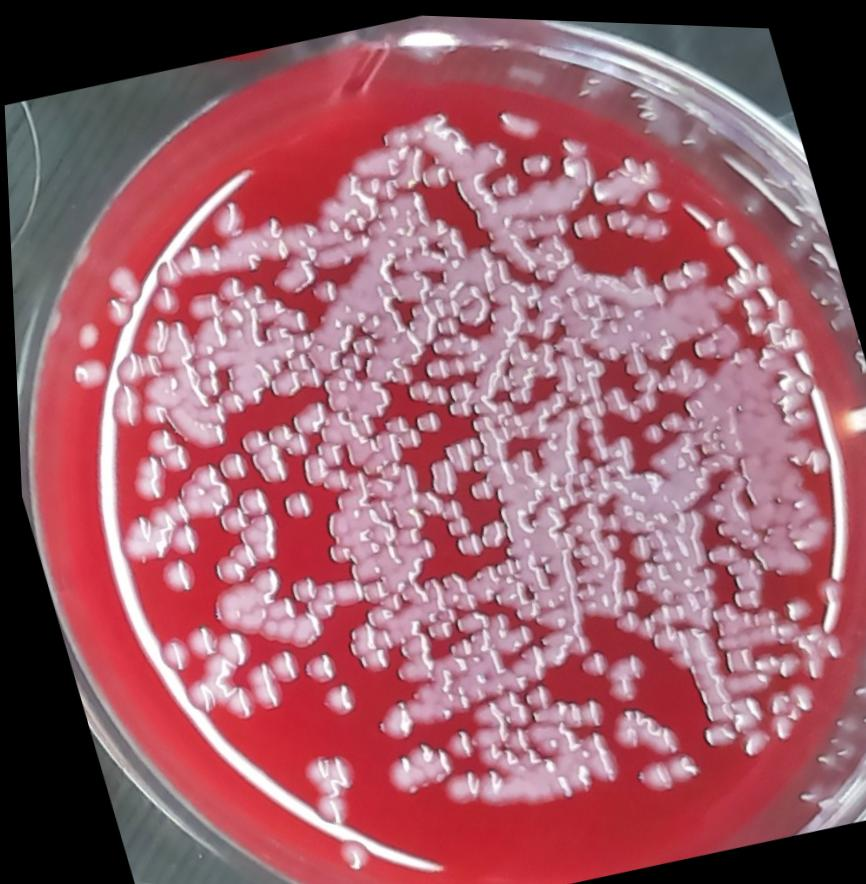smarcescens: (285, 734, 366, 831), (144, 545, 202, 602), (307, 673, 359, 723)
